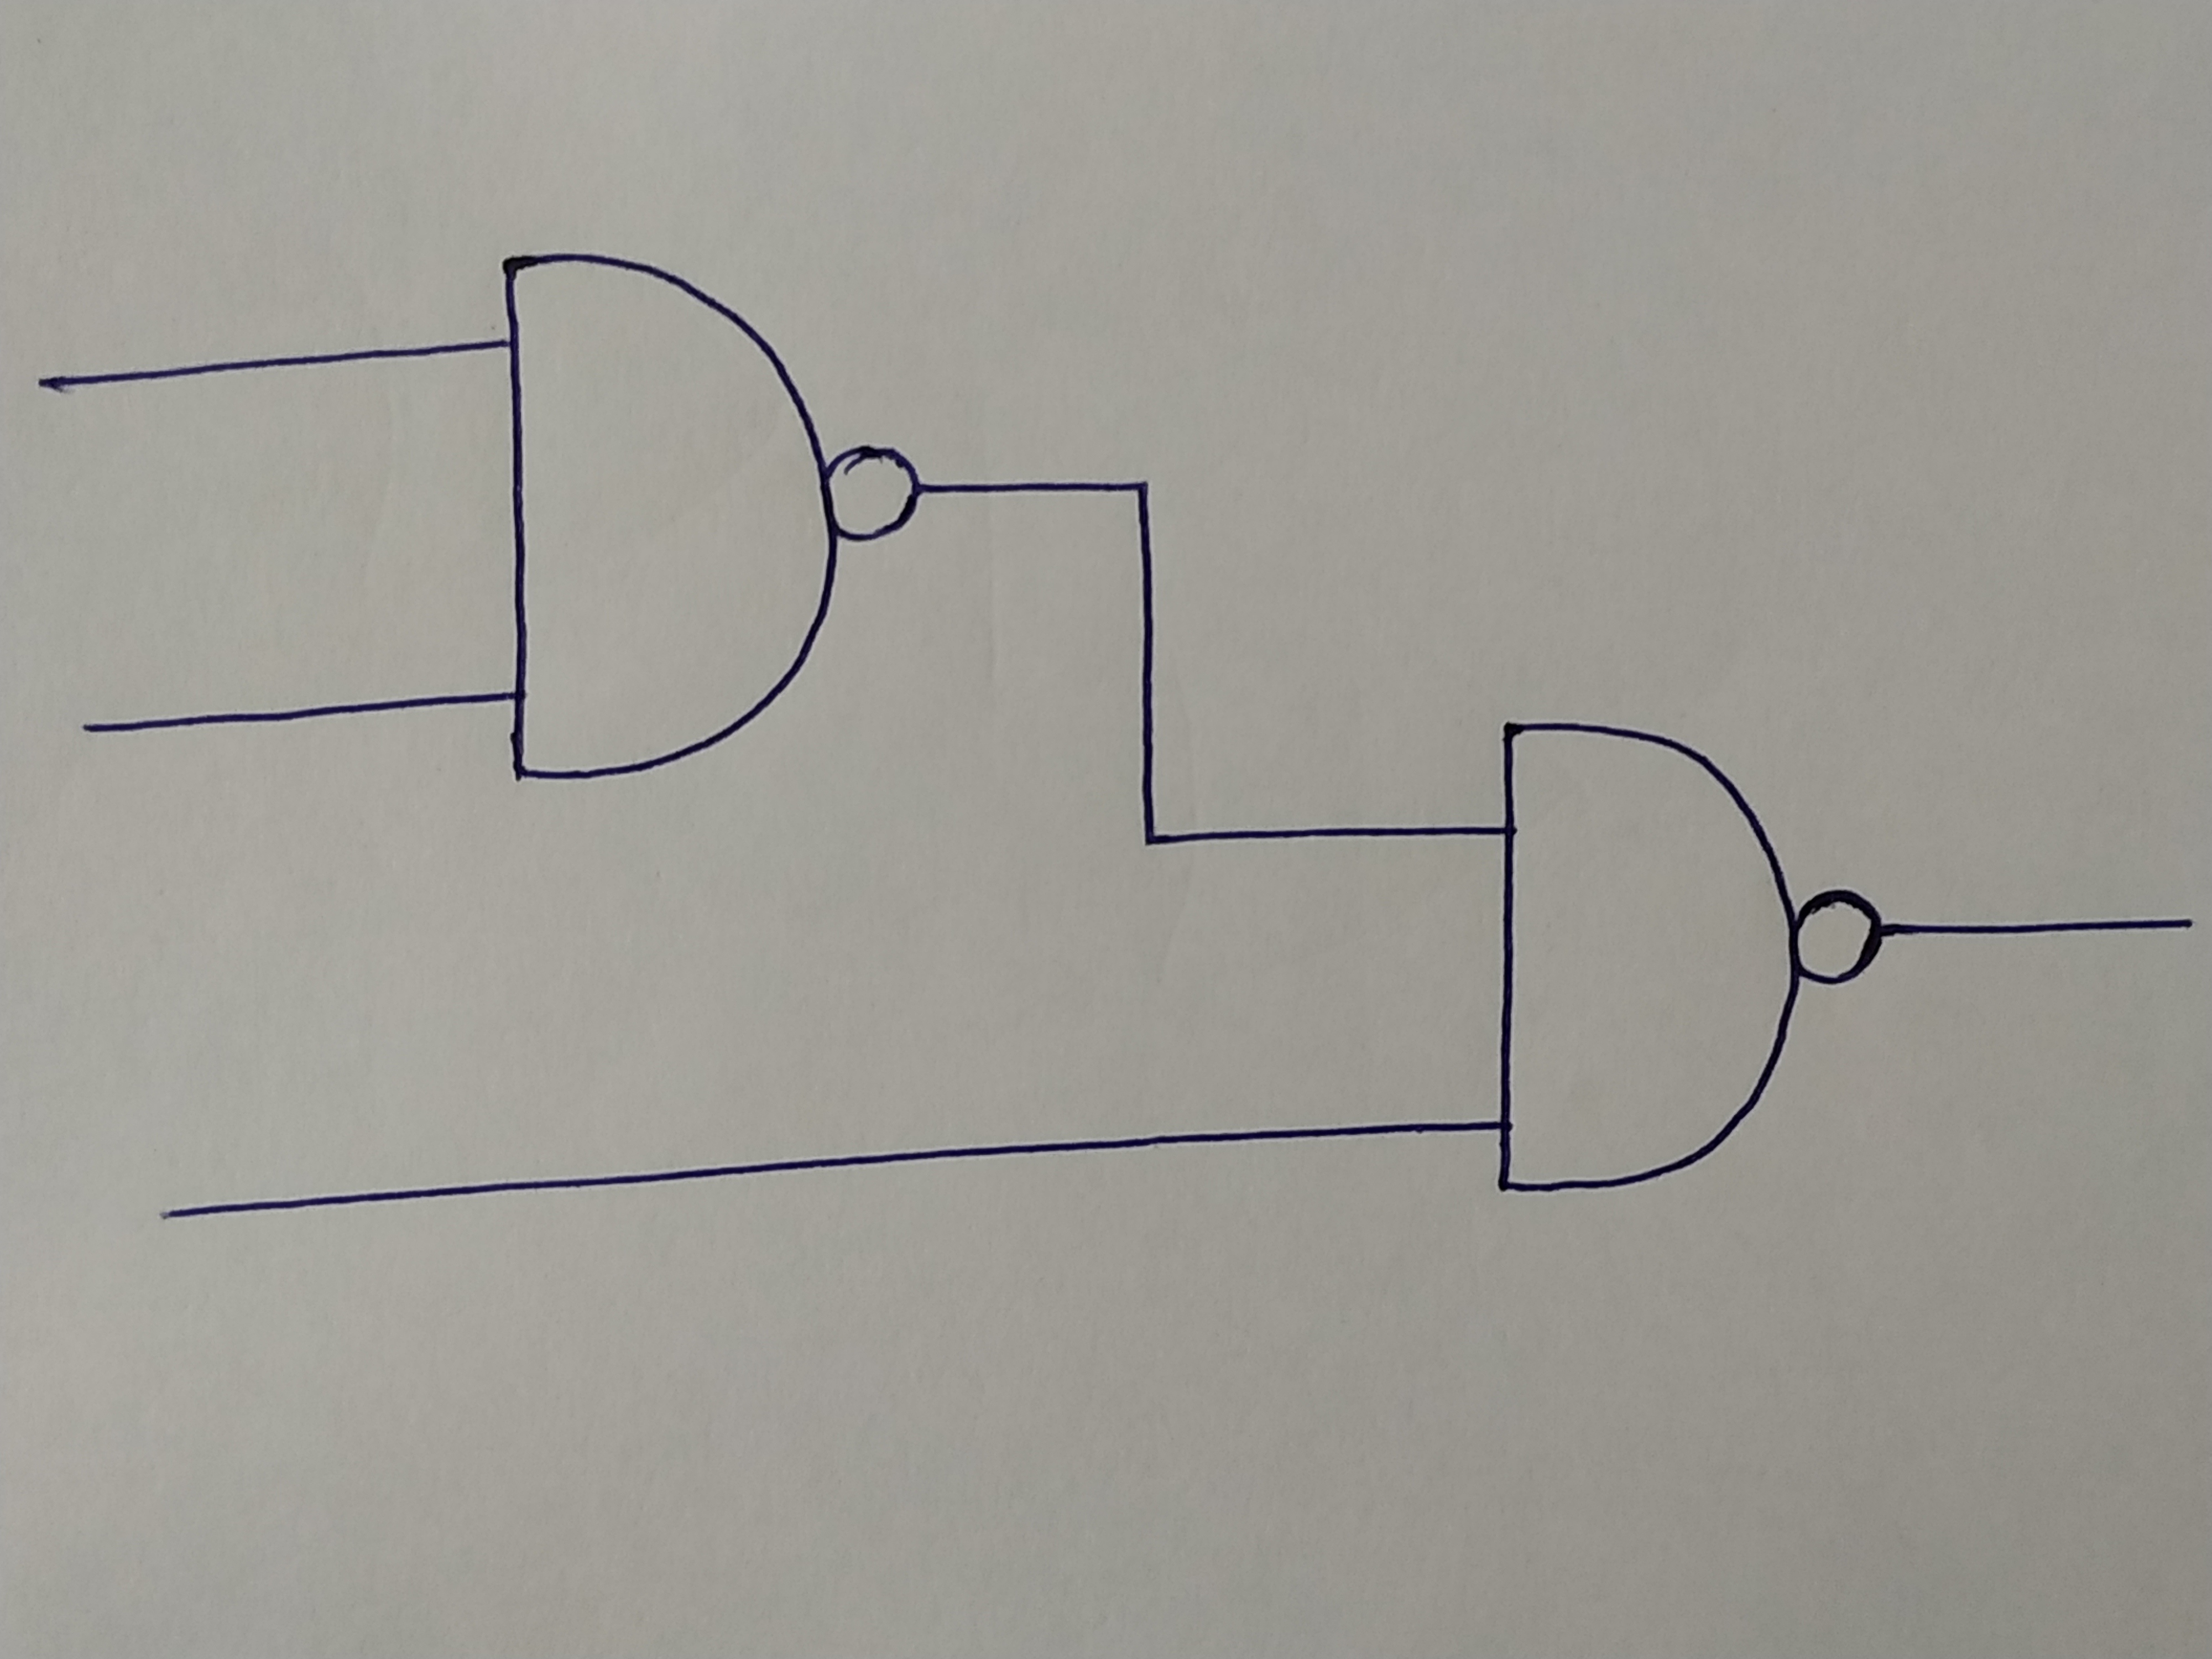and: (498, 256, 833, 777), (1494, 723, 1796, 1192)
not: (831, 450, 921, 544), (1799, 892, 1876, 985)
